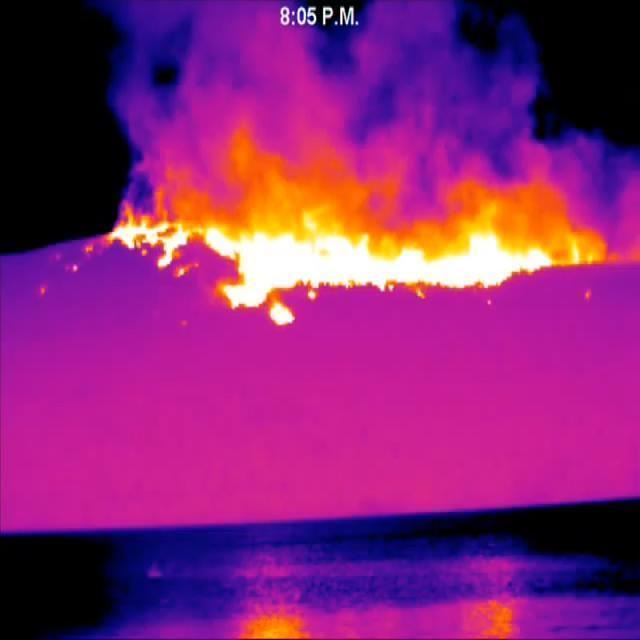fire: (104, 193, 584, 326)
